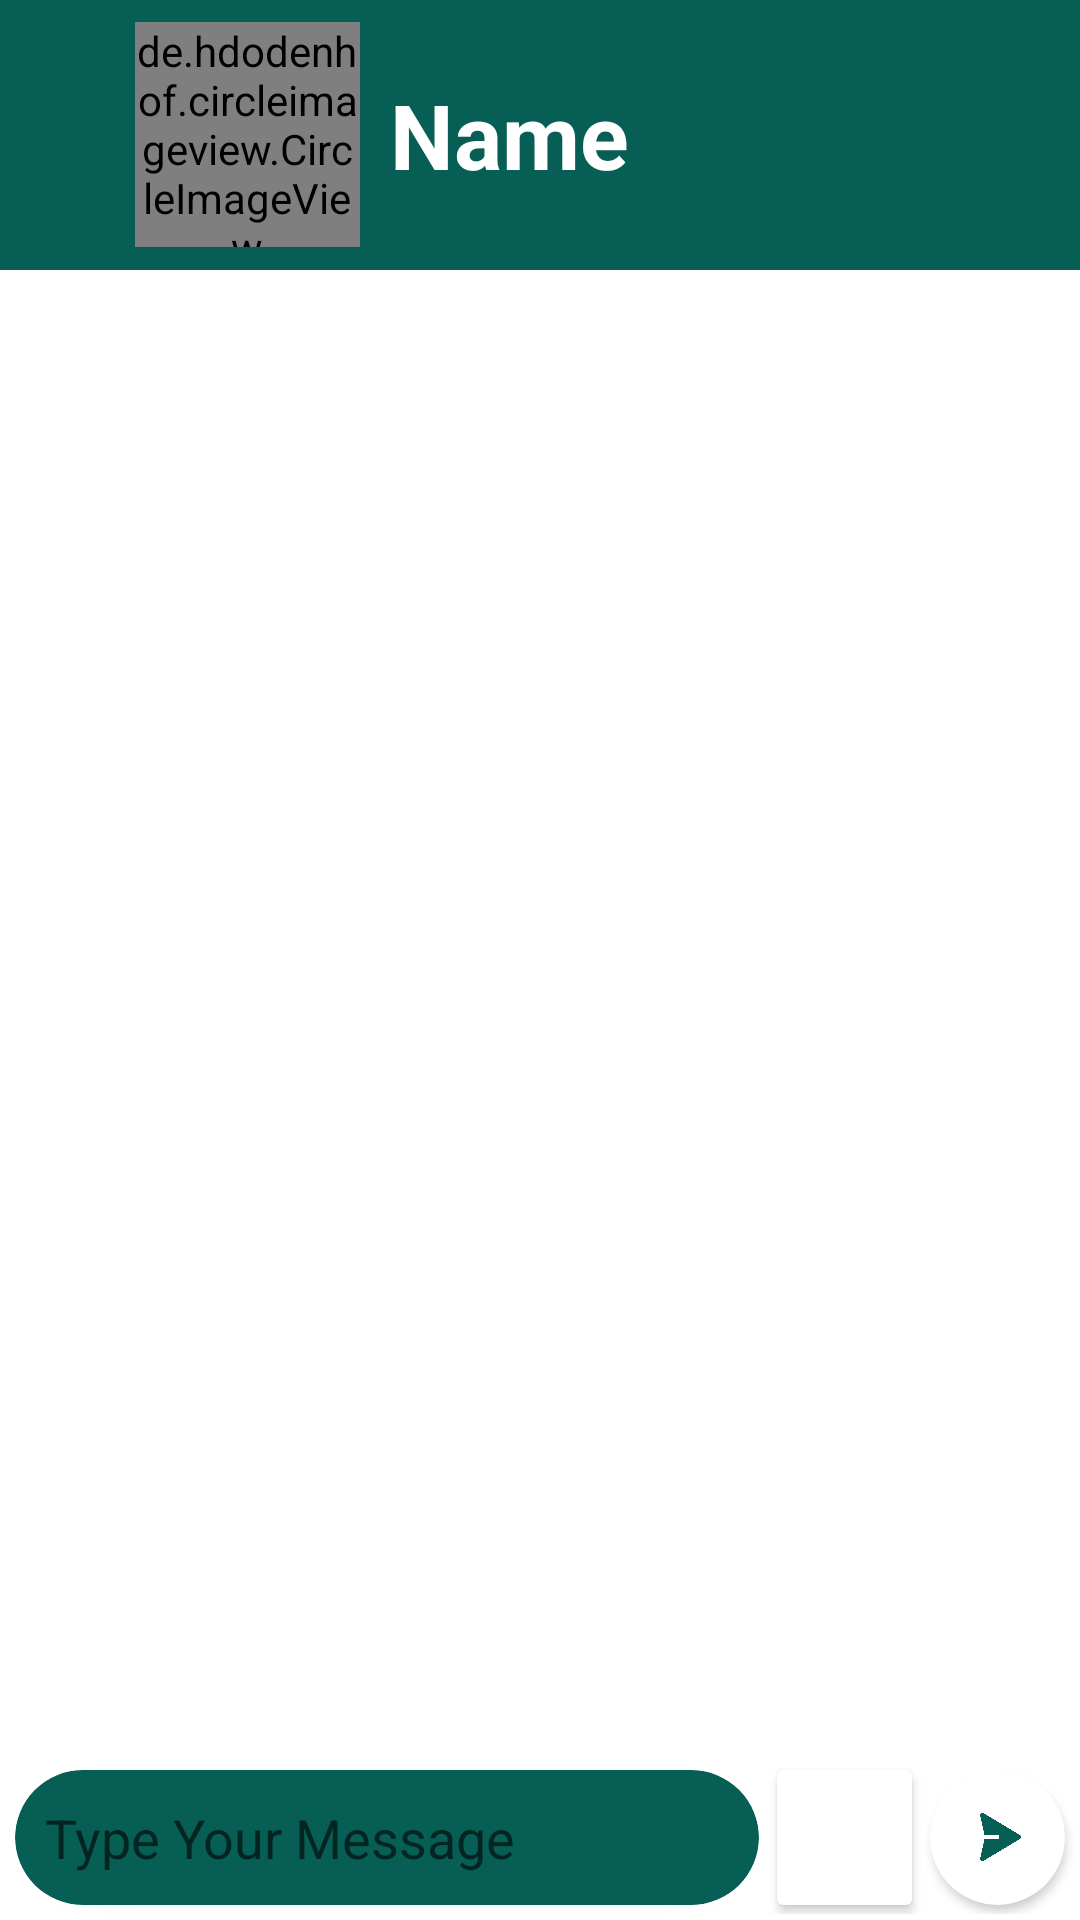

Screen size 1080x1920. Icon name, then its box in pixels as (x1, y1, x2, y2):
send: (980, 1813, 1021, 1861)
